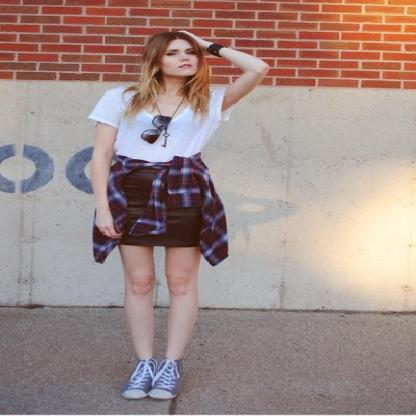jacket: (92, 152, 228, 265)
shirt: (88, 86, 224, 162)
shoe: (124, 356, 178, 398)
shorts: (113, 160, 204, 250)
sunglass: (142, 115, 170, 141)
